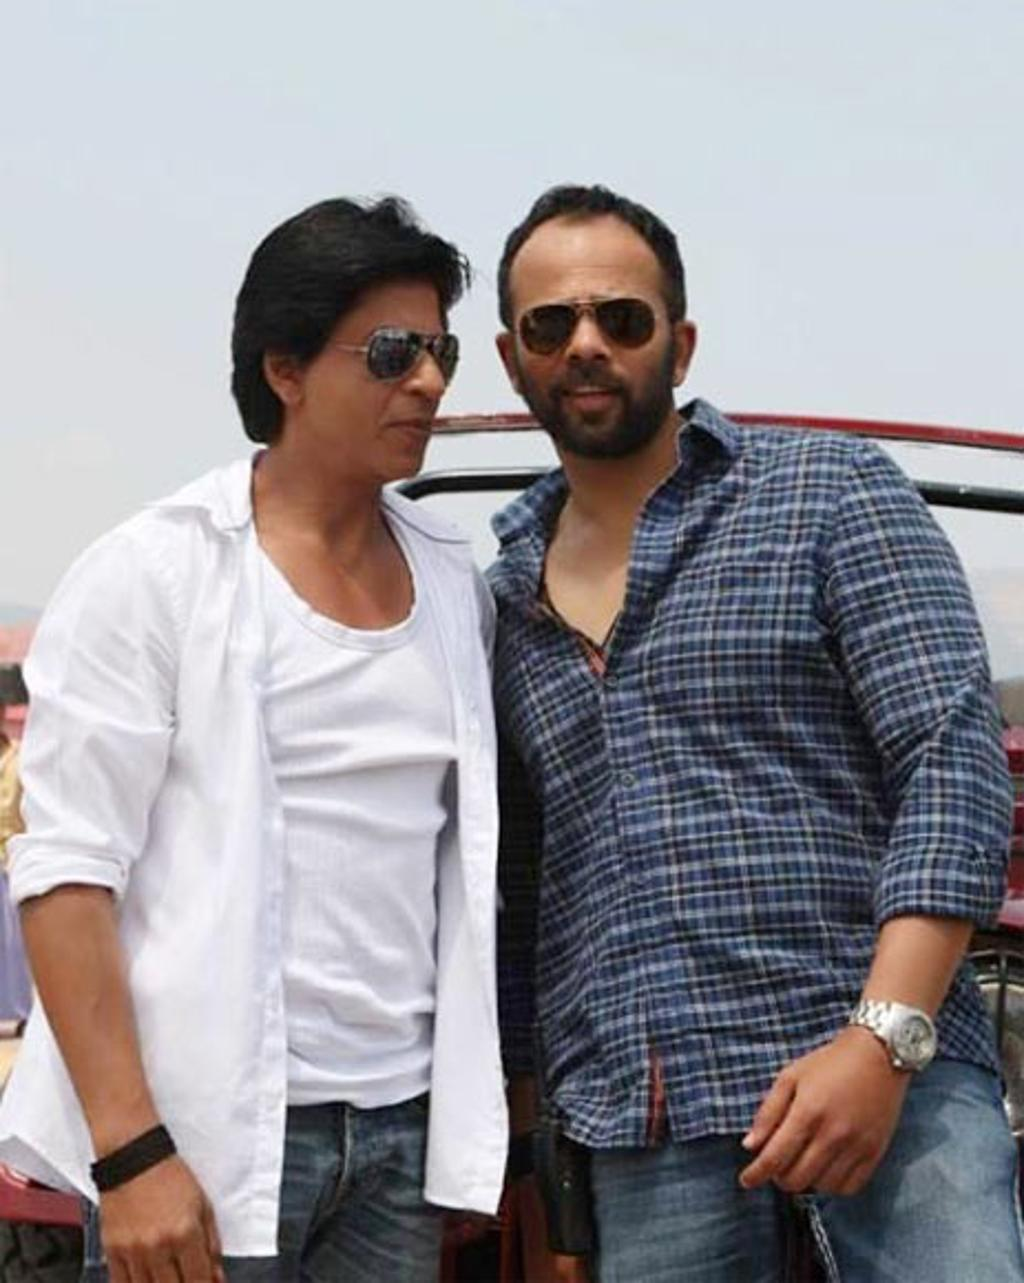face: (508, 218, 663, 438), (295, 285, 453, 478)
